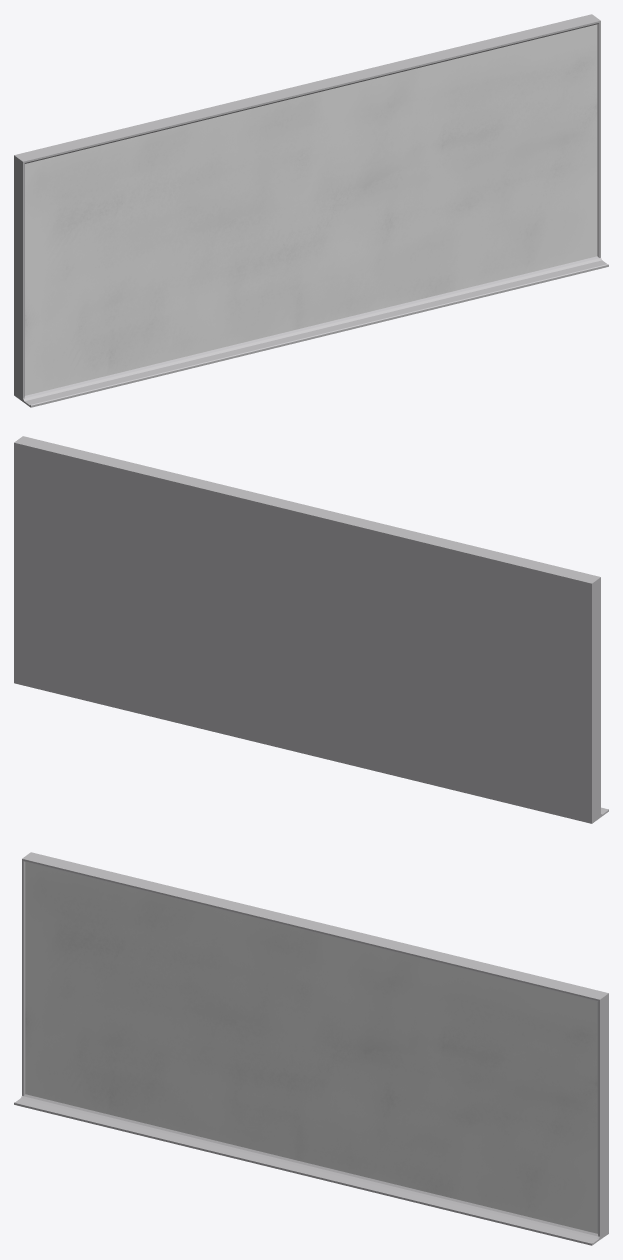
The model's file is Whiteboard.fbx.
3 renders of one model, top to bottom at view 1: azimuth 30°, elevation 25°; view 2: azimuth 150°, elevation 25°; view 3: azimuth 330°, elevation 25°, orthographic.
Visible parts, largest first — view 1: Whiteboard, Whiteboard Metal; view 2: Whiteboard Metal; view 3: Whiteboard, Whiteboard Metal.
Part boxes in pixels (bbox=[...]): Whiteboard: bbox=[25, 24, 597, 395]; Whiteboard Metal: bbox=[14, 14, 608, 407]; Whiteboard Metal: bbox=[14, 436, 608, 823]; Whiteboard: bbox=[25, 862, 597, 1233]; Whiteboard Metal: bbox=[14, 852, 608, 1245].
Size of the model in its own units: 9.76 by 3.88 by 0.496.
Materials: 2 (1 with a texture image).
